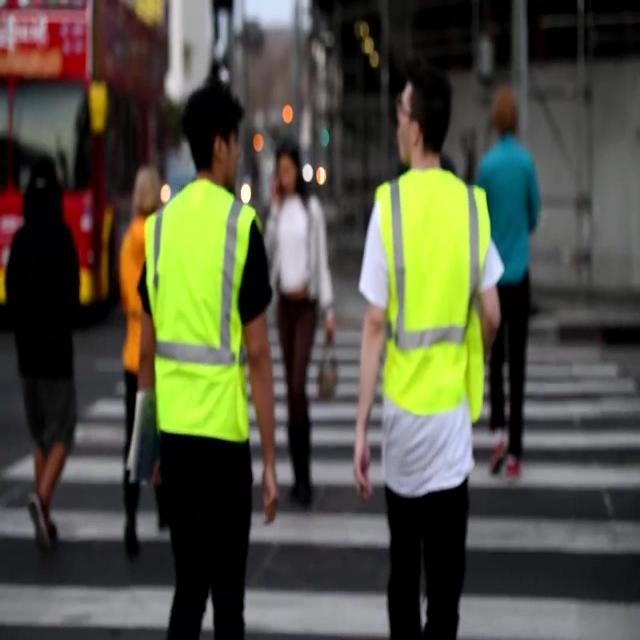reflective_jacket: (363, 165, 494, 438), (140, 185, 264, 462)
